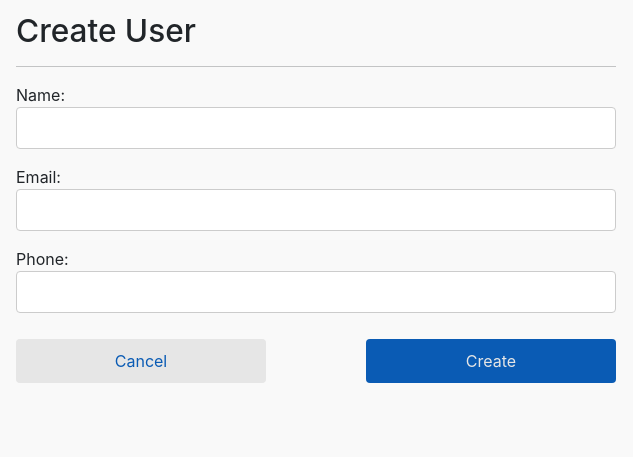
CreateUser component › shows validation errors for empty fields on submit
The width and height of the screenshot is (633, 457).
What coordinates should you click on to do the following:
click the button "Create"
I would click on:
 (491, 361)
Its box is [366,339,616,383].
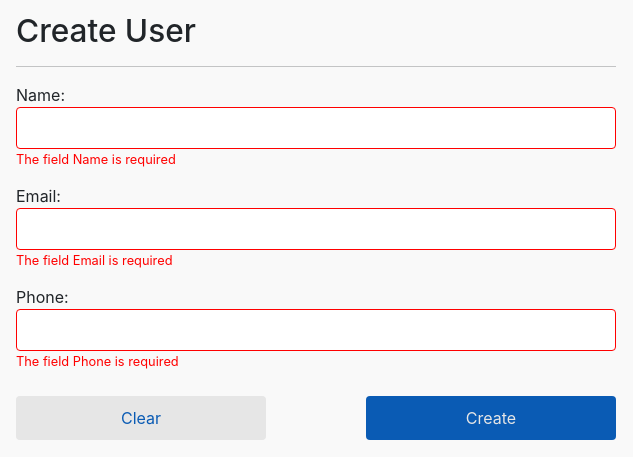
Expected: the text "The field Name is required" is shown, [16,152,176,167]
Expected: the text "The field Email is required" is shown, [16,253,172,268]
